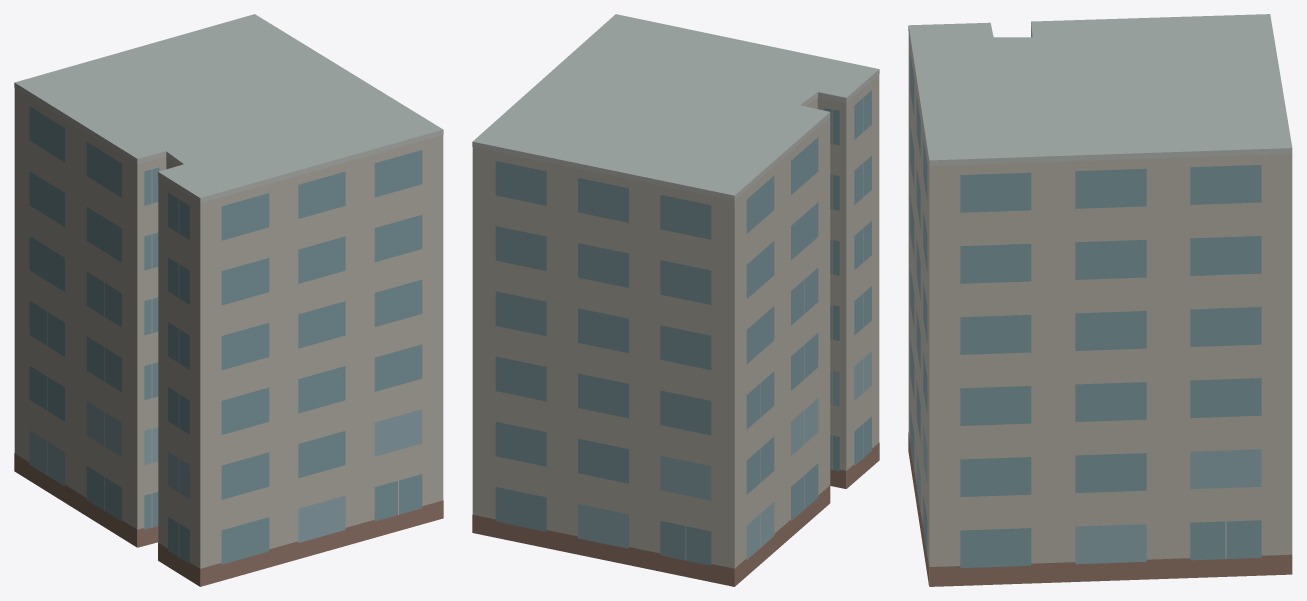
Rendered from survey-upis-32739715.glb.
The picture shows the model from 3 angles, left to right: view 1: azimuth 30°, elevation 25°; view 2: azimuth 150°, elevation 25°; view 3: azimuth 270°, elevation 25°; orthographic projection. The views are drawn at different scales.
Parts seen in each view (by area): view 1: survey-upis-32739715.tmp; view 2: survey-upis-32739715.tmp; view 3: survey-upis-32739715.tmp.
Part boxes in pixels (bbox=[...]): survey-upis-32739715.tmp: bbox=[14, 14, 443, 586]; survey-upis-32739715.tmp: bbox=[472, 14, 879, 586]; survey-upis-32739715.tmp: bbox=[908, 14, 1292, 586].
Size of the model in its own units: 13.45 by 18.26 by 14.91.
